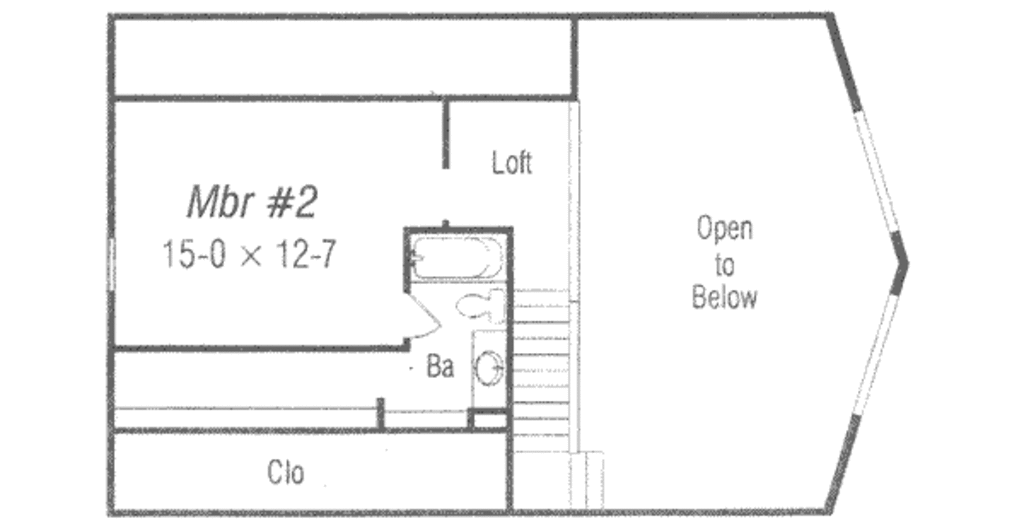door: (398, 289, 450, 343)
large_sink: (449, 284, 507, 331)
small_sink: (466, 330, 510, 410)
stairs: (513, 281, 589, 453)
tub: (402, 230, 511, 284)
window: (849, 273, 898, 419), (856, 108, 902, 237), (105, 236, 115, 290)
